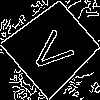V: (27, 22, 83, 77)
